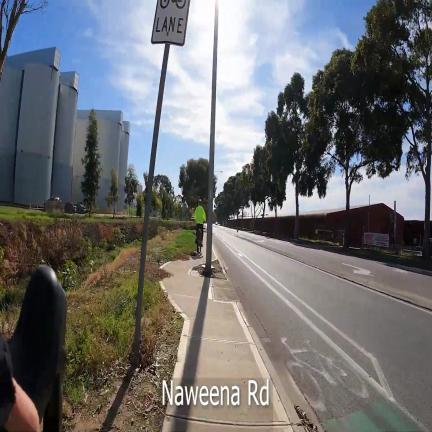Bike_Lane: (216, 240, 432, 432)
Bike_Sign: (151, 0, 190, 46)
